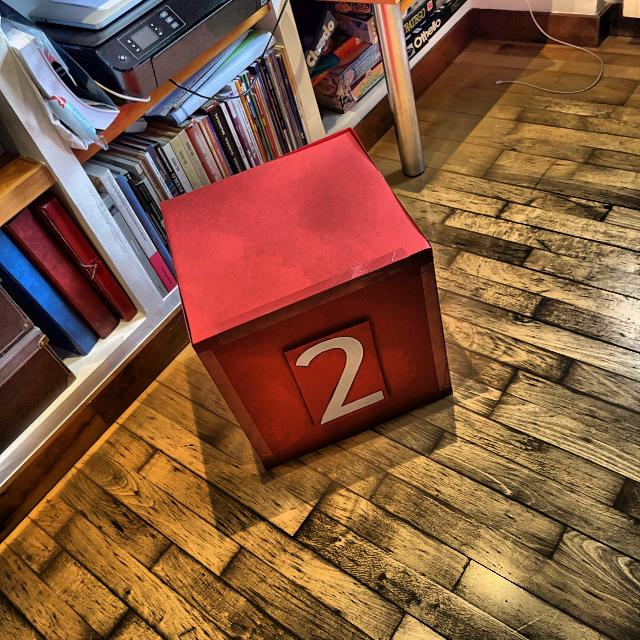red box: (158, 130, 456, 474)
two: (294, 334, 384, 429)
